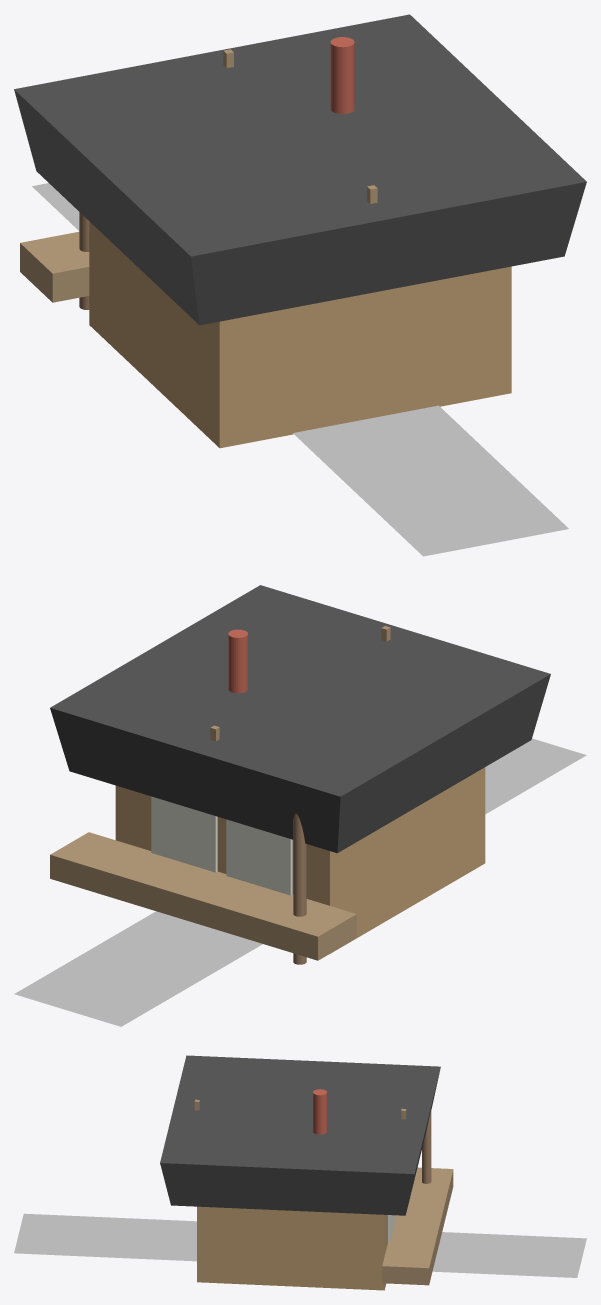
The picture shows the model from 3 angles, top to bottom: view 1: azimuth 30°, elevation 25°; view 2: azimuth 150°, elevation 25°; view 3: azimuth 270°, elevation 25°; orthographic projection. The views are drawn at different scales.
Parts seen in each view (by area): view 1: JapaneseRoof.001; view 2: JapaneseRoof.001; view 3: JapaneseRoof.001.
Boxes of the visible parts, box(x1,y1,x2,y2) form: JapaneseRoof.001: box(14, 14, 586, 556); JapaneseRoof.001: box(14, 585, 586, 1026); JapaneseRoof.001: box(14, 1055, 586, 1290).
Size of the model in its own units: 65.9 by 44.36 by 134.
